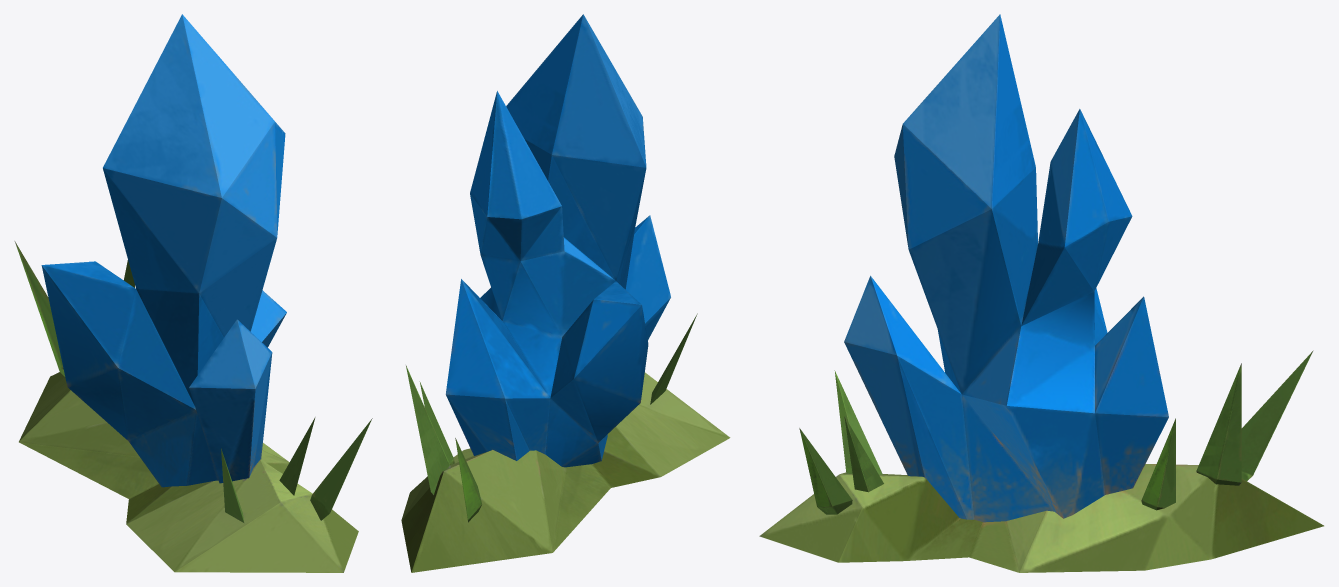
File: crystal_deco.fbx
The picture shows the model from 3 angles, left to right: view 1: azimuth 30°, elevation 25°; view 2: azimuth 150°, elevation 25°; view 3: azimuth 270°, elevation 25°; orthographic projection. The views are drawn at different scales.
Visible parts, largest first — view 1: big_crystal_deco, crystal_rock_base, grass_blade10, grass_blade13, grass_blade11, grass_blade12; view 2: big_crystal_deco, crystal_rock_base, grass_blade9, grass_blade13, grass_blade12, grass_blade8; view 3: big_crystal_deco, crystal_rock_base, grass_blade9, grass_blade13, grass_blade10, grass_blade8, grass_blade11, grass_blade12.
Part boxes in pixels (x1,y1,x2,y2): big_crystal_deco: (41,14,286,487); crystal_rock_base: (19,372,358,572); grass_blade10: (310,418,372,520); grass_blade13: (14,241,65,376); grass_blade11: (279,417,315,495); grass_blade12: (221,448,244,522); big_crystal_deco: (445,14,670,467); crystal_rock_base: (401,372,730,572); grass_blade9: (406,365,450,494); grass_blade13: (455,438,482,522); grass_blade12: (650,313,697,404); grass_blade8: (419,381,454,465); big_crystal_deco: (844,14,1168,522); crystal_rock_base: (759,464,1323,572); grass_blade9: (1196,363,1241,485); grass_blade13: (1241,350,1313,480); grass_blade10: (799,428,852,514); grass_blade8: (1141,418,1175,510); grass_blade11: (844,416,883,492); grass_blade12: (834,370,882,474).
Size of the model in its own units: 0.0104 by 0.0223 by 0.0225.
